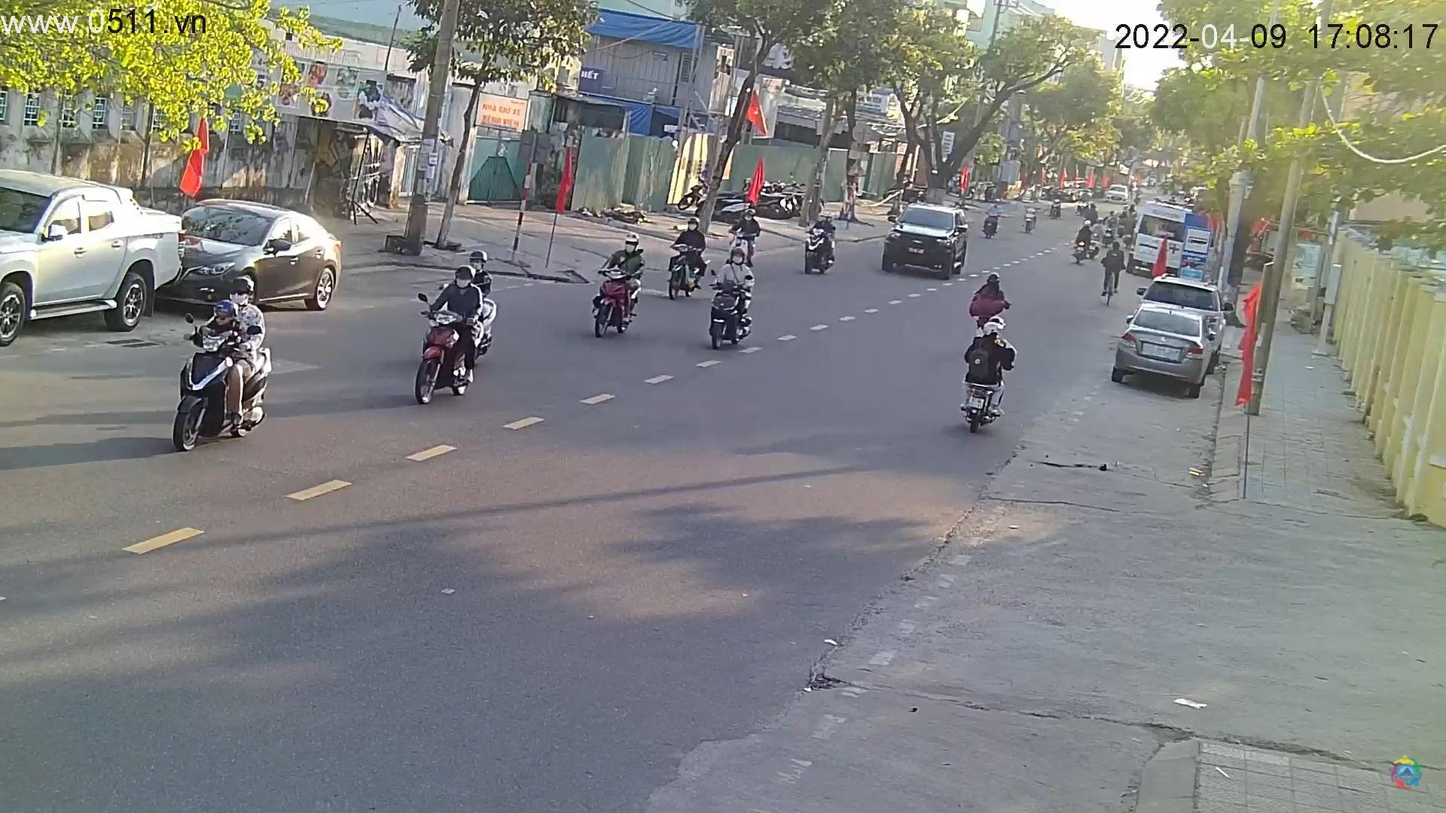car: (2, 167, 189, 354), (173, 201, 349, 315), (880, 202, 970, 274)
motorbike: (168, 276, 280, 450), (411, 261, 495, 411), (702, 251, 760, 349), (595, 232, 640, 339), (667, 210, 712, 302), (807, 221, 839, 276)
